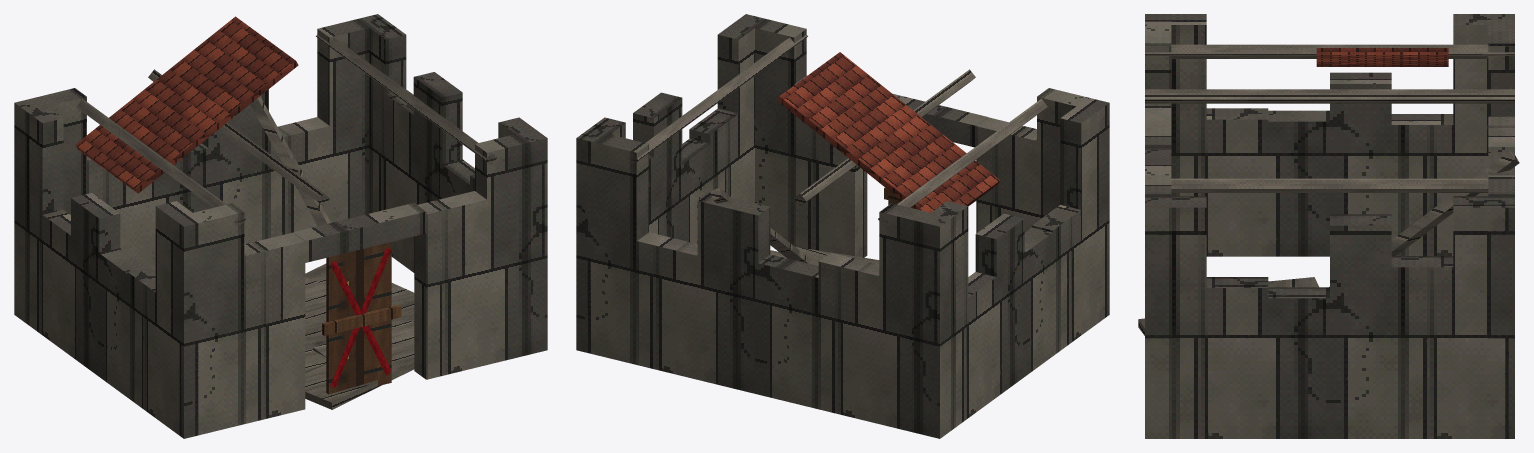
The model's file is casa_ruina.obj.
3 renders of one model, left to right at view 1: azimuth 30°, elevation 25°; view 2: azimuth 150°, elevation 25°; view 3: azimuth 270°, elevation 25°, orthographic. The views are drawn at different scales.
Visible parts, largest first — view 1: casa_ruina; view 2: casa_ruina; view 3: casa_ruina.
Part boxes in pixels (<box>): casa_ruina: <box>14,14,547,438</box>; casa_ruina: <box>576,14,1109,438</box>; casa_ruina: <box>1138,14,1519,438</box>.
Size of the model in its own units: 5.2 by 3.82 by 4.33.
6 materials, 6 textured.
